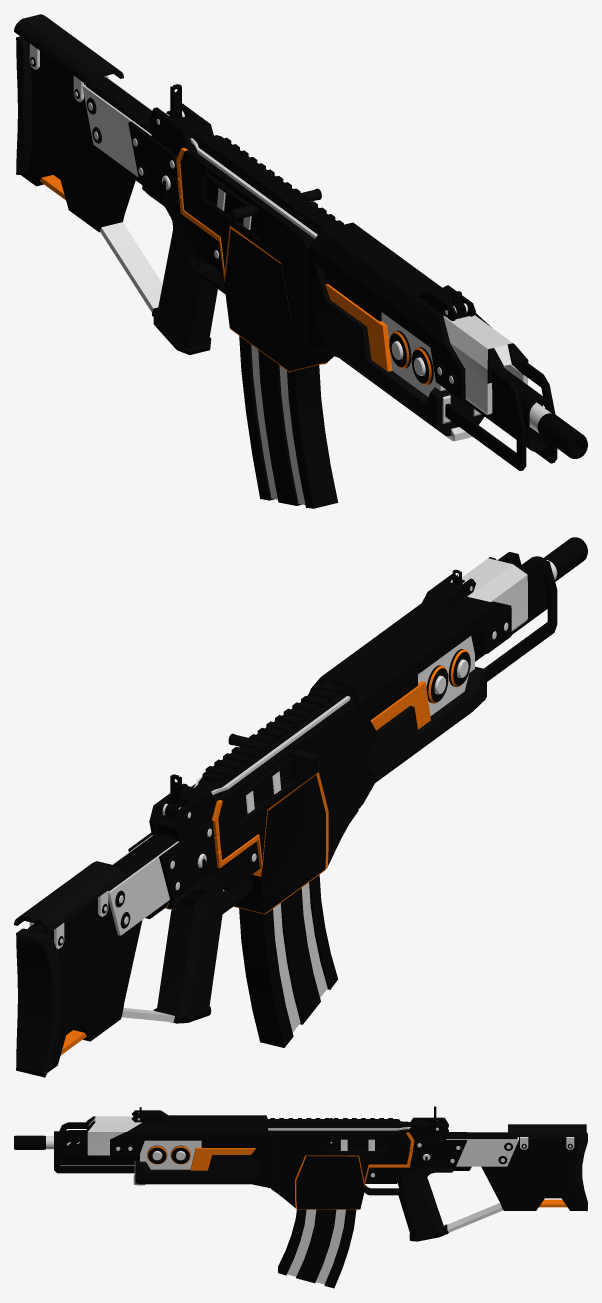
The model's file is BattleRifle.fbx.
3 views of the same model, one above another, from view 1: azimuth 30°, elevation 25°; view 2: azimuth 150°, elevation 25°; view 3: azimuth 270°, elevation 25° (orthographic). The views are drawn at different scales.
Parts seen in each view (by area): view 1: Cube, Cube.005, Cube.004, Cylinder, Cube.006; view 2: Cube, Cube.005, Cube.004, Cylinder, Cube.006; view 3: Cube, Cube.005, Cube.004, Cylinder, Cube.006.
Boxes of the visible parts, x1,y1,x2,y2 form: Cube: (14, 14, 557, 470); Cube.005: (239, 336, 338, 508); Cube.004: (149, 103, 343, 238); Cylinder: (462, 367, 587, 458); Cube.006: (206, 180, 321, 237); Cube: (14, 552, 557, 1077); Cube.005: (239, 875, 337, 1047); Cube.004: (149, 683, 350, 841); Cylinder: (475, 537, 587, 661); Cube.006: (228, 733, 321, 819); Cube: (54, 1110, 587, 1241); Cube.005: (278, 1209, 356, 1288); Cube.004: (267, 1117, 448, 1139); Cylinder: (14, 1131, 139, 1160); Cube.006: (327, 1118, 388, 1150).
Bounding box in the file's own units: 88.9 × 329 × 960.
